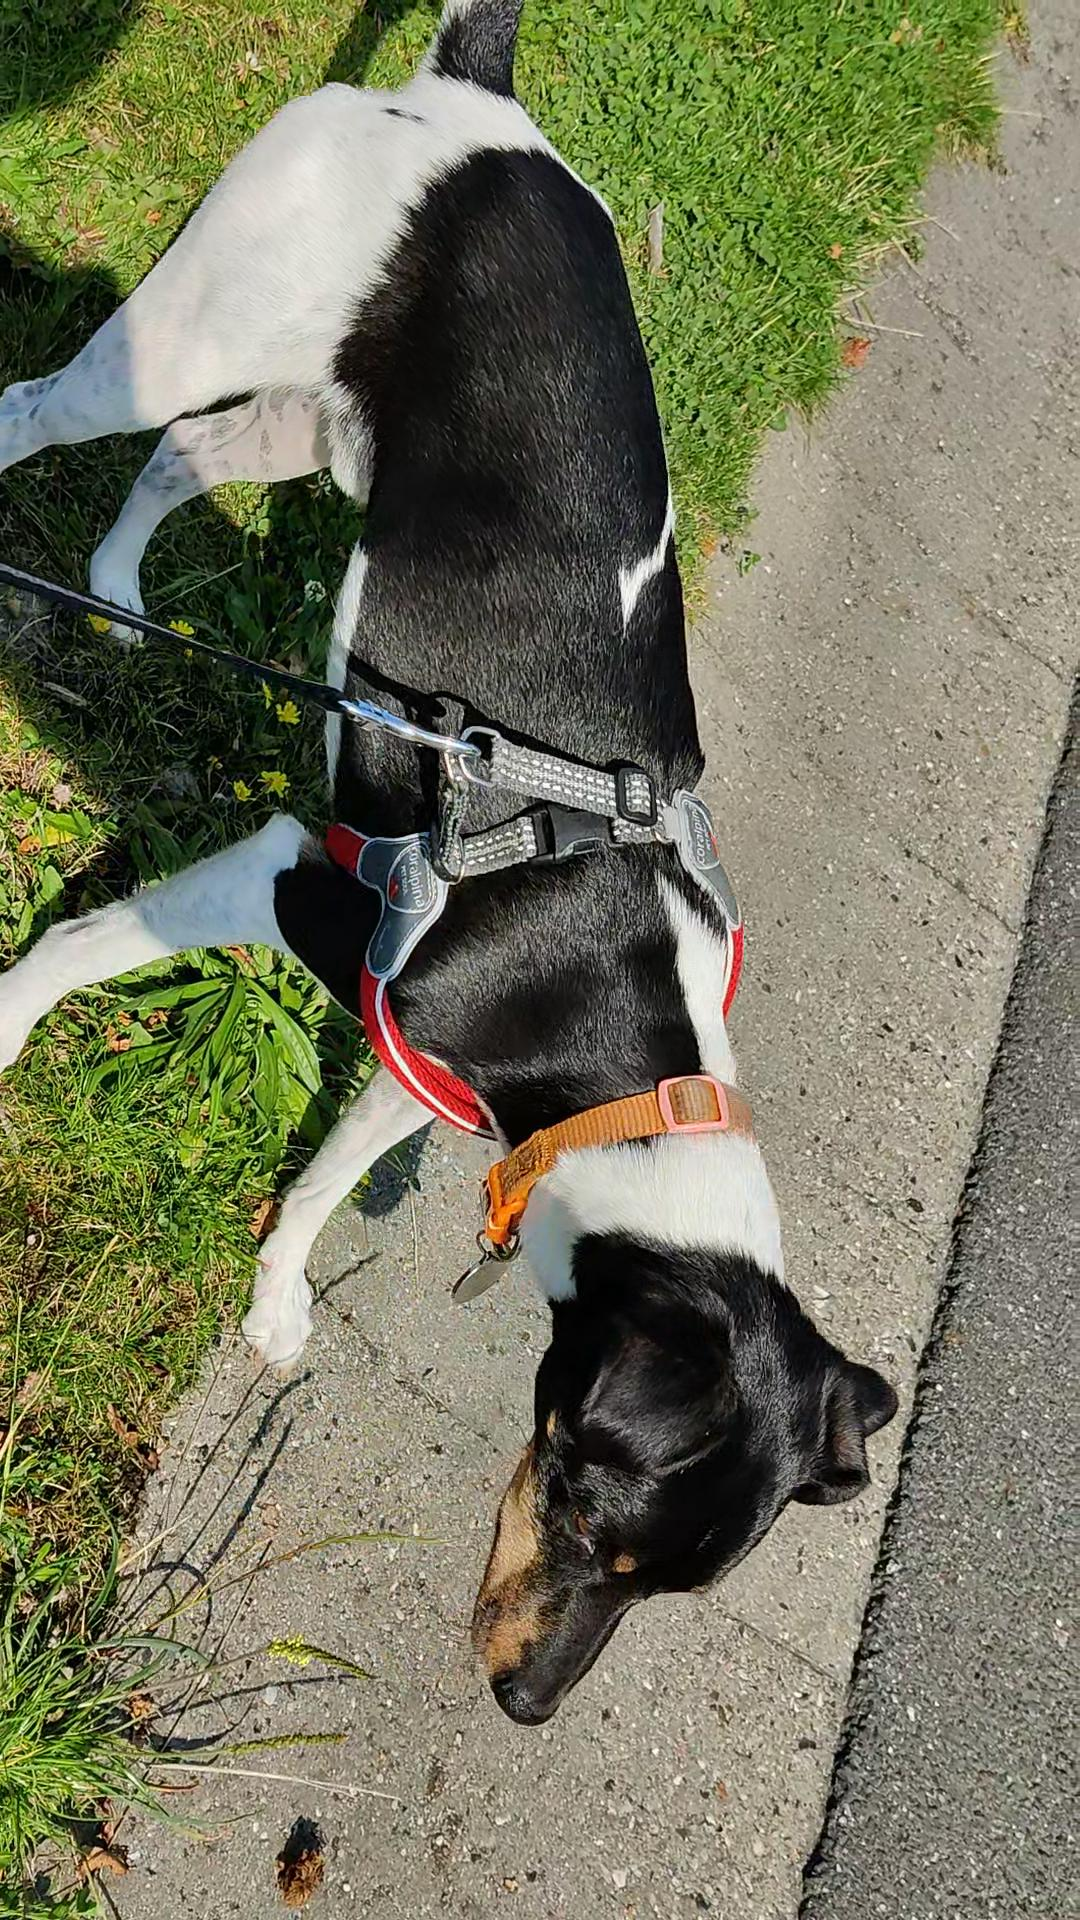Dog: (0, 0, 905, 1729)
